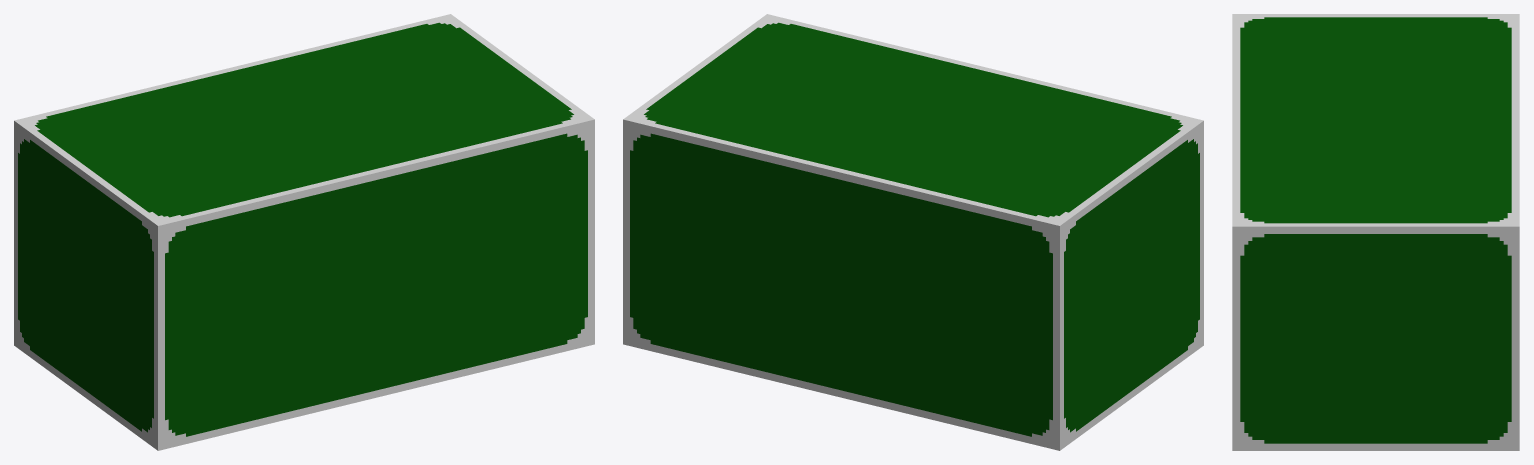
File: house_simple_green_rectangular.glb
3 views of the same model, side by side, from view 1: azimuth 30°, elevation 25°; view 2: azimuth 150°, elevation 25°; view 3: azimuth 270°, elevation 25° (orthographic).
Parts seen in each view (by area): view 1: house_simple_green_rectangular.001; view 2: house_simple_green_rectangular.001; view 3: house_simple_green_rectangular.001.
Boxes of the visible parts, x1,y1,x2,y2 form: house_simple_green_rectangular.001: (14, 14, 594, 450); house_simple_green_rectangular.001: (623, 14, 1203, 450); house_simple_green_rectangular.001: (1232, 14, 1519, 450).
Size of the model in its own units: 12.6 by 6.2 by 7.2.
1 material, 1 textured.
